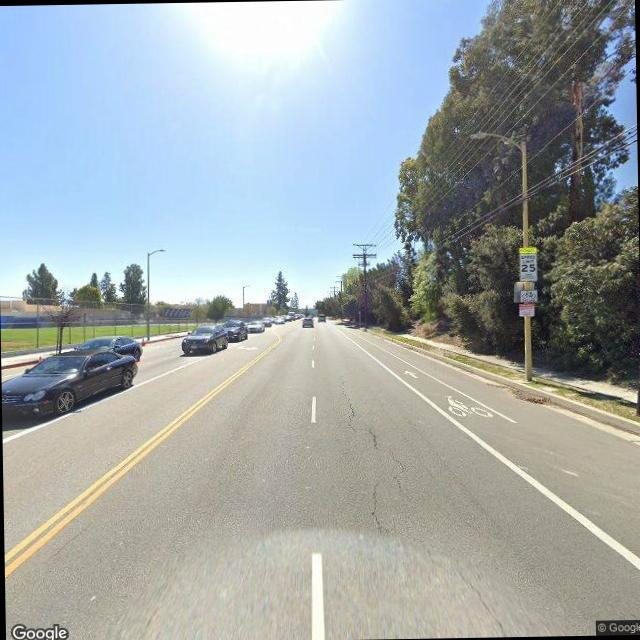pothole: (336, 378, 407, 530)
